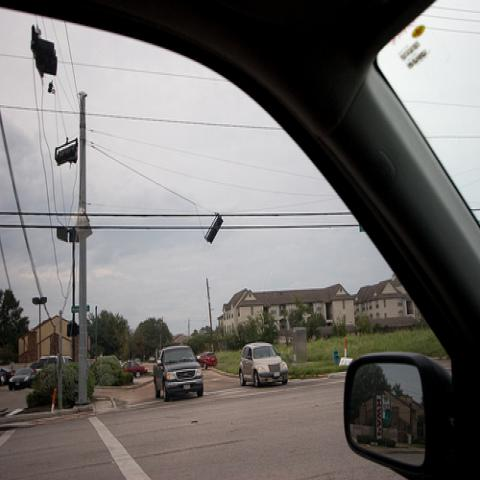car: (154, 344, 203, 402), (238, 342, 289, 389), (36, 354, 74, 373), (8, 367, 36, 389), (122, 360, 146, 378), (198, 352, 218, 370), (1, 368, 17, 386), (28, 362, 39, 372), (148, 356, 155, 363)
truck: (153, 345, 203, 403)
